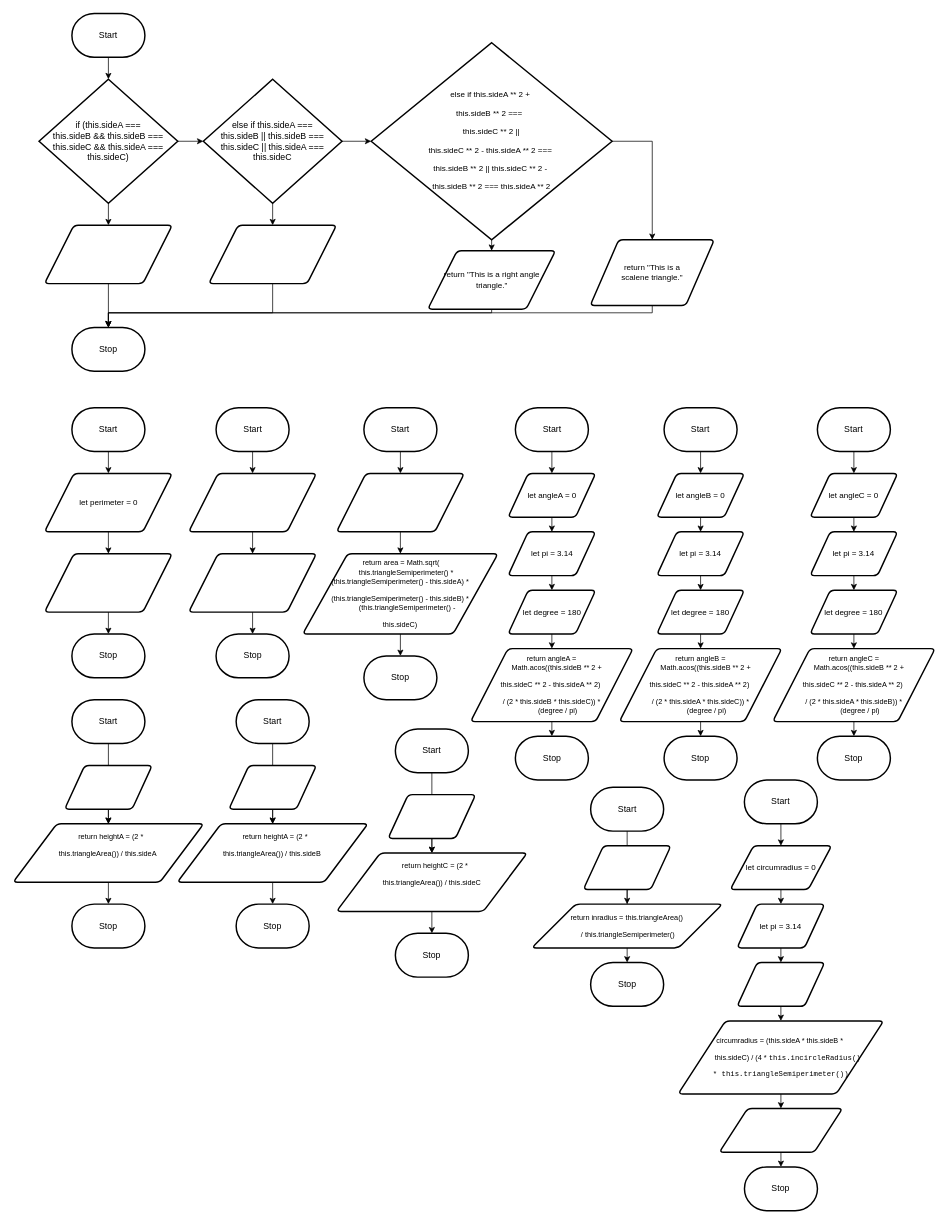
The diagram is 949 pixels wide and 1223 high, and some of its shapes have lost their labels. The centre of each missing label's shape, as x and y in pixels:
let area = 0: point 400,502
let circleArea = 0: point 780,984
let heightA = 0: point 108,787
let heightB = 0: point 272,787
let heightC = 0: point 431,816
let inradius = 0: point 626,867
let semiperimeter = 0: point 252,502
return "This is an equilateral triangle.": point 108,254
return "This is an isosceles triangle.": point 272,254
return circleArea = pi * circumradius ** 2: point 780,1130
return perimeter = this.sideA + this.sideB + this.sideC: point 108,582
return semiperimeter = (this.sideA + this.sideB + this.sideC) / 2: point 252,582
